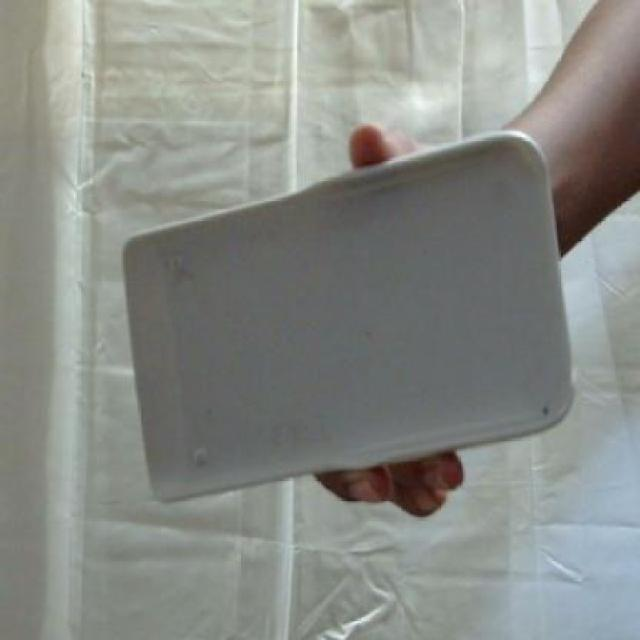Plastic: (113, 123, 582, 517)
